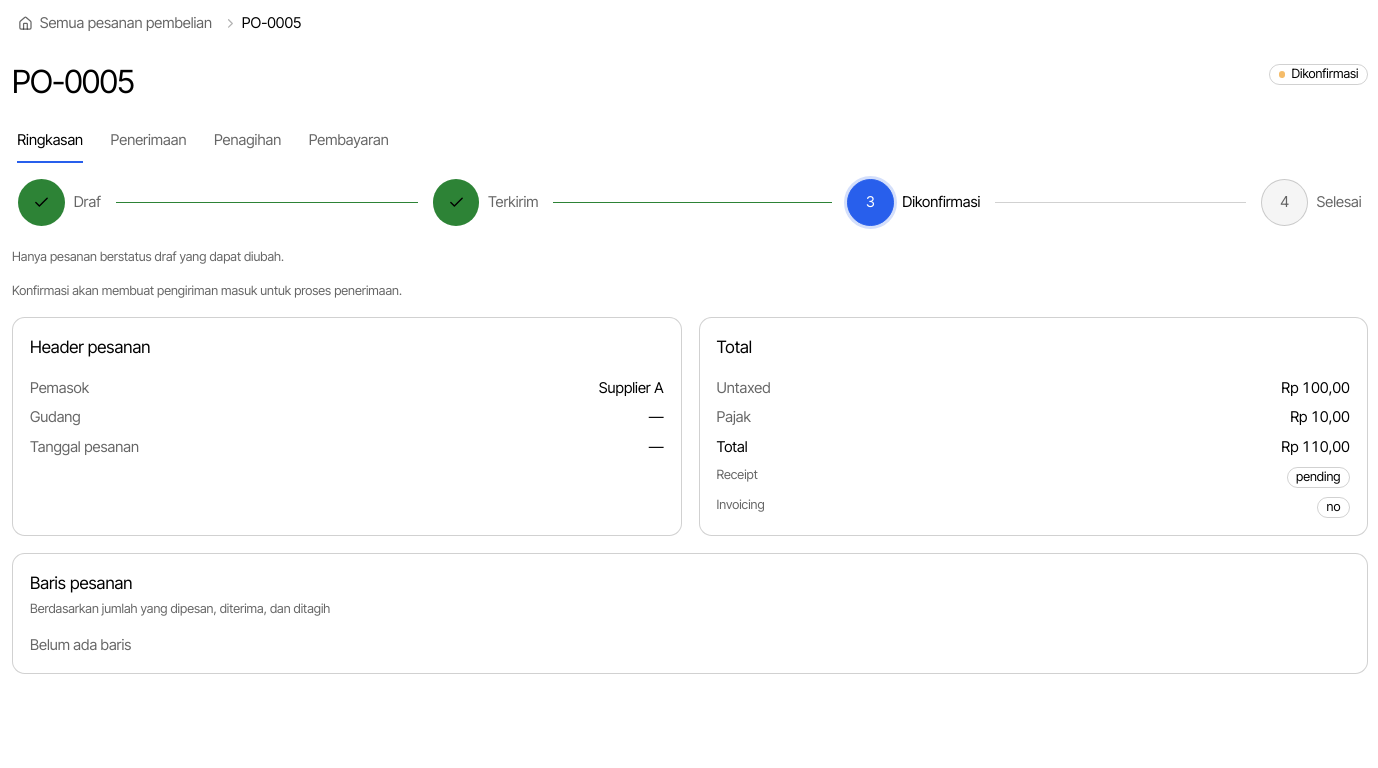
Test case: PurchaseOrderDetail branches4 › shows linked shipment when origin matches
The image size is (1378, 768).
Expected: the heading "PO-0005" is shown, [12, 64, 134, 100]
Click the tab "Penerimaan" at (148, 141), box [110, 117, 187, 164]
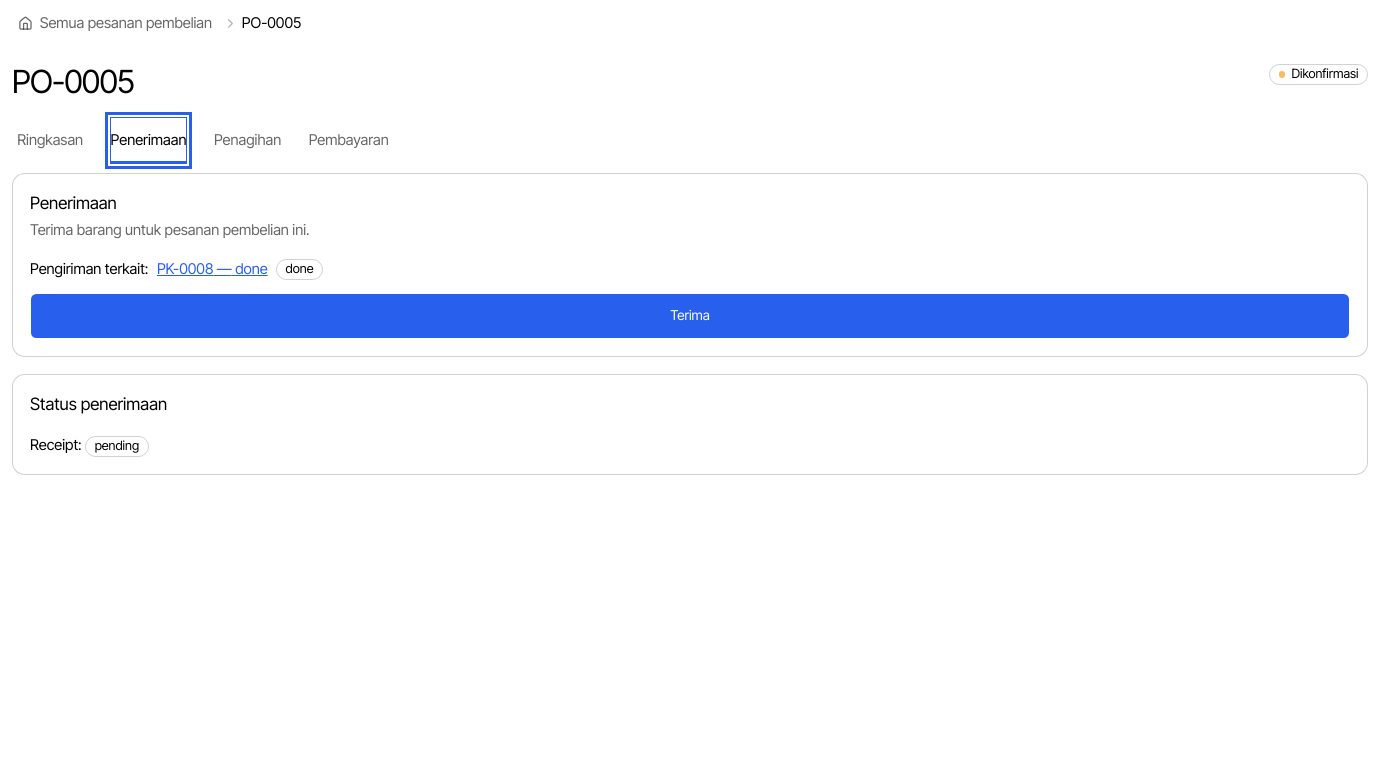
Now the link "PK-0008 — done" is shown, box [157, 259, 268, 280]
